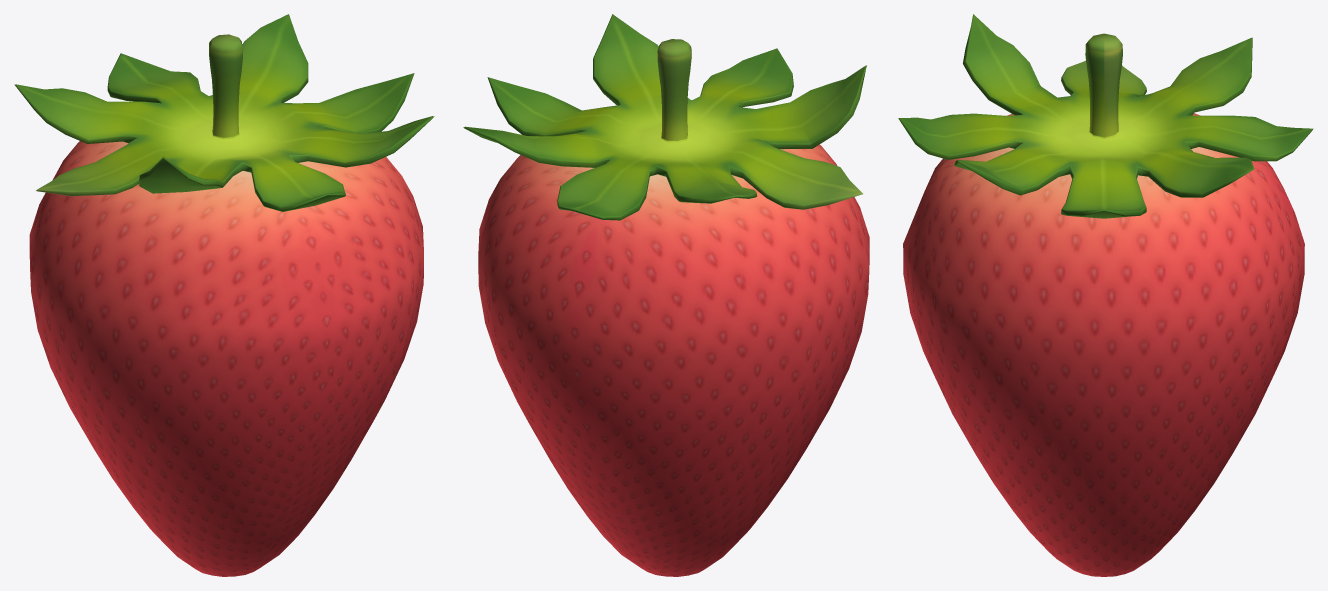
The model's file is Strawberry_Singleunit (1).fbx.
The picture shows the model from 3 angles, left to right: view 1: azimuth 30°, elevation 25°; view 2: azimuth 150°, elevation 25°; view 3: azimuth 270°, elevation 25°; orthographic projection.
Parts seen in each view (by area): view 1: ichigo; view 2: ichigo; view 3: ichigo.
Part boxes in pixels (x1=…): ichigo: x1=14, y1=14, x2=434, y2=576; ichigo: x1=463, y1=14, x2=869, y2=576; ichigo: x1=898, y1=14, x2=1313, y2=576.
Size of the model in its own units: 112 by 150 by 106.
1 material, 1 textured.
